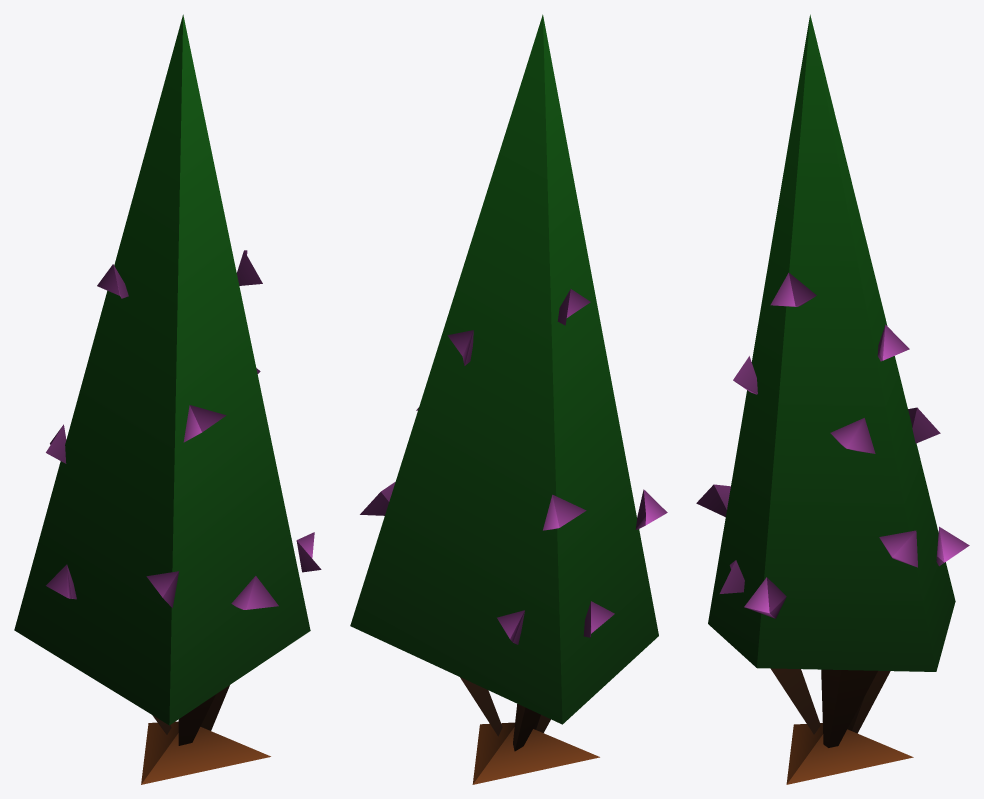
File: c_hedge_vertical_triangle_flower_aa.fbx
3 renders of one model, left to right at view 1: azimuth 30°, elevation 25°; view 2: azimuth 150°, elevation 25°; view 3: azimuth 270°, elevation 25°, orthographic. The views are drawn at different scales.
Parts seen in each view (by area): view 1: c_hedge_vertical_triangle_flower_aa; view 2: c_hedge_vertical_triangle_flower_aa; view 3: c_hedge_vertical_triangle_flower_aa.
Boxes of the visible parts, bbox=[...] form: c_hedge_vertical_triangle_flower_aa: bbox=[14, 14, 321, 784]; c_hedge_vertical_triangle_flower_aa: bbox=[350, 14, 667, 784]; c_hedge_vertical_triangle_flower_aa: bbox=[696, 14, 969, 784].
Size of the model in its own units: 0.9233 by 2.99 by 0.9897.
